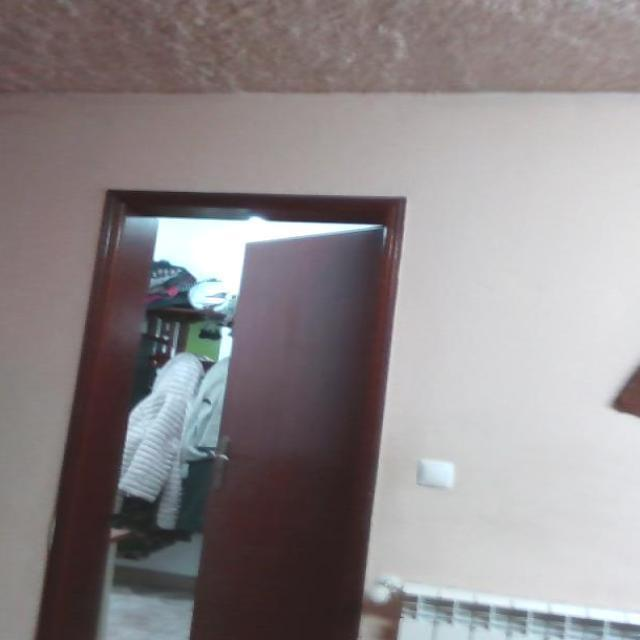door: (182, 212, 392, 640)
